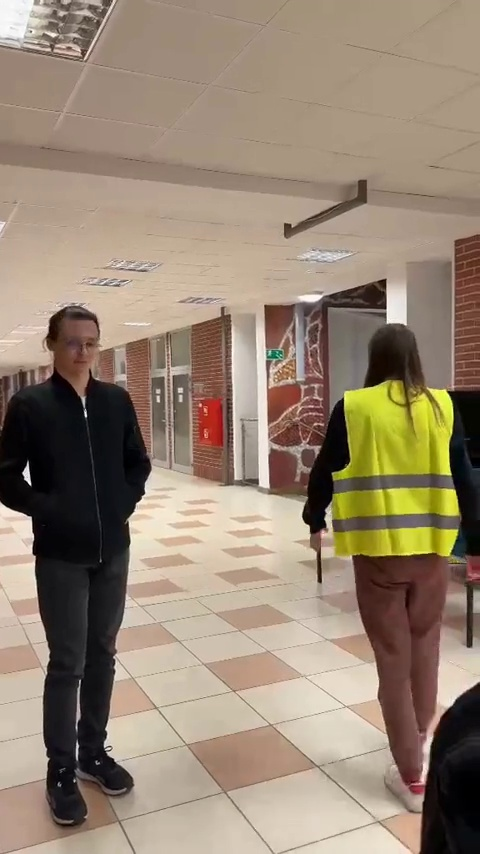no vest: (6, 299, 162, 831)
vest: (301, 320, 480, 818)
